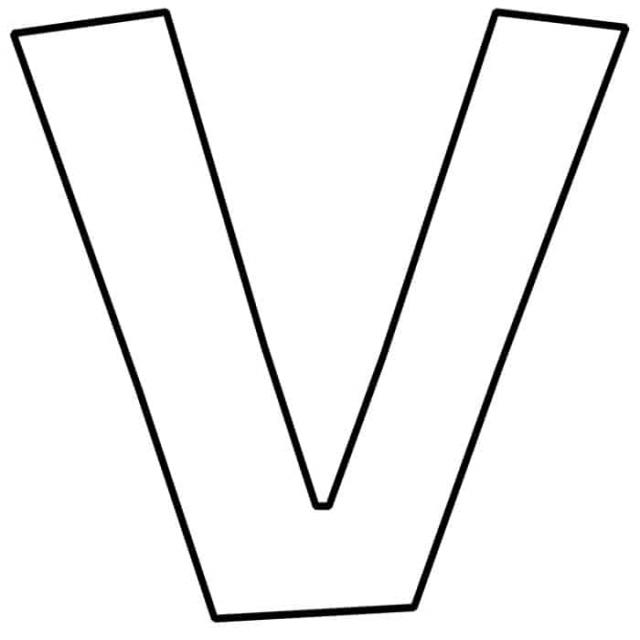V: (3, 0, 624, 639)
